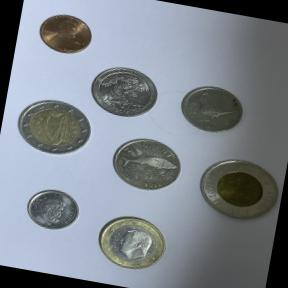coin: (186, 144, 288, 232), (99, 126, 193, 203), (83, 204, 178, 280), (7, 90, 97, 164), (82, 60, 167, 128), (28, 2, 106, 66), (14, 180, 86, 240)
